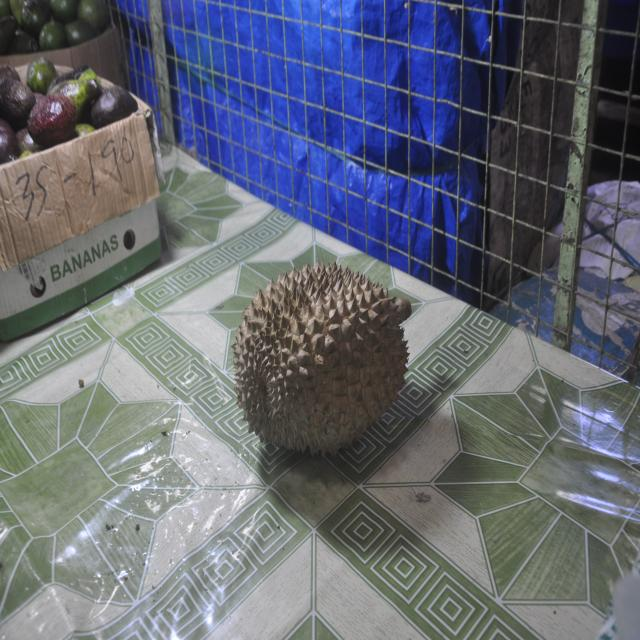mature: (234, 263, 411, 455)
